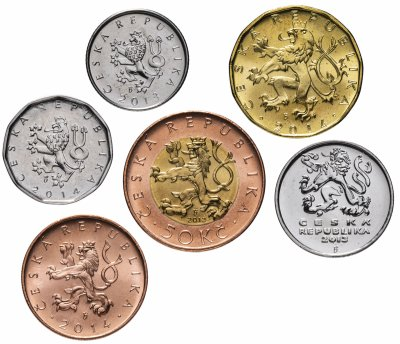coin: (124, 110, 267, 253), (229, 5, 365, 138), (21, 215, 148, 341), (274, 139, 394, 257), (5, 96, 115, 206), (86, 11, 190, 112)
